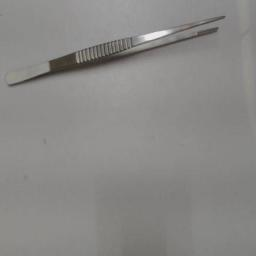DeBakey Dissector: (3, 10, 233, 98)
